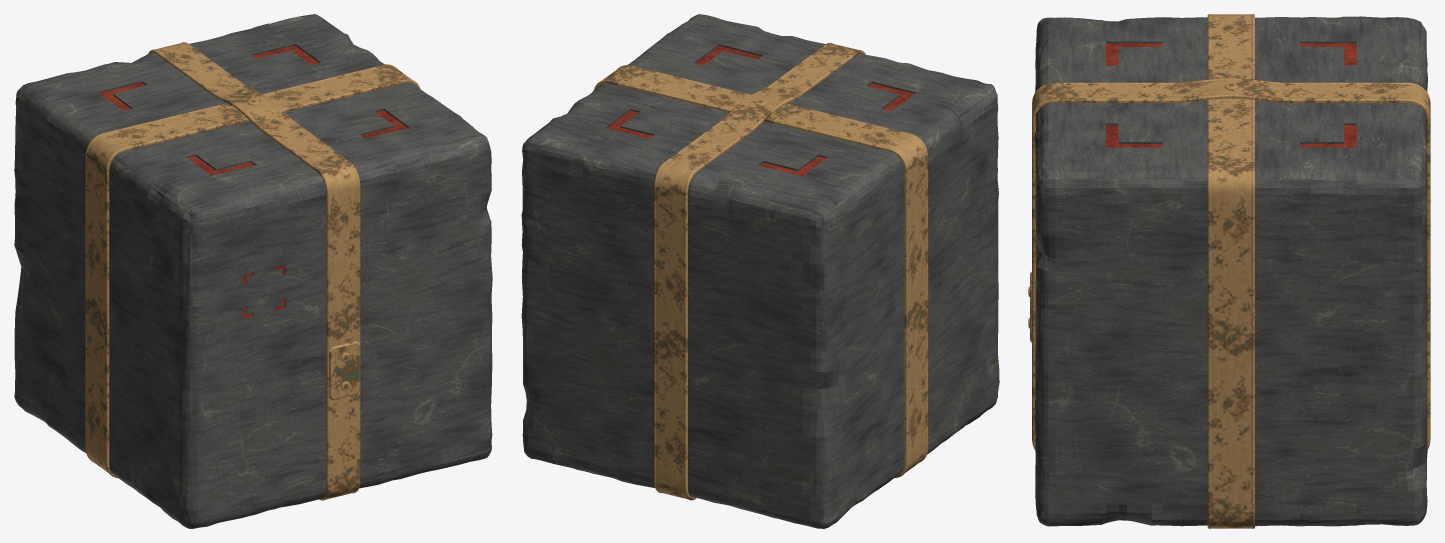
File: T25-A4-Unity.fbx
The picture shows the model from 3 angles, left to right: view 1: azimuth 30°, elevation 25°; view 2: azimuth 150°, elevation 25°; view 3: azimuth 270°, elevation 25°; orthographic projection. The views are drawn at different scales.
Visible parts, largest first — view 1: 01_HewnGreywacke_RecessedSeals, 03_BronzeGirth_FrontBack, 02_BronzeGirth_EastWest, 05_FrontScarfPlate; view 2: 01_HewnGreywacke_RecessedSeals, 03_BronzeGirth_FrontBack, 02_BronzeGirth_EastWest; view 3: 01_HewnGreywacke_RecessedSeals, 02_BronzeGirth_EastWest, 03_BronzeGirth_FrontBack.
Boxes of the visible parts, box(x1,y1,x2,y2) form: 01_HewnGreywacke_RecessedSeals: box(14, 14, 492, 528); 03_BronzeGirth_FrontBack: box(148, 42, 360, 500); 02_BronzeGirth_EastWest: box(85, 64, 420, 477); 05_FrontScarfPlate: box(329, 341, 359, 399); 01_HewnGreywacke_RecessedSeals: box(521, 14, 999, 528); 03_BronzeGirth_FrontBack: box(654, 42, 865, 500); 02_BronzeGirth_EastWest: box(593, 65, 928, 477); 01_HewnGreywacke_RecessedSeals: box(1034, 16, 1427, 526); 02_BronzeGirth_EastWest: box(1207, 14, 1254, 528); 03_BronzeGirth_FrontBack: box(1032, 78, 1430, 449).
Bounding box in the file's own units: 1.01 × 1.05 × 1.02.
Materials: 3 (3 with a texture image).
